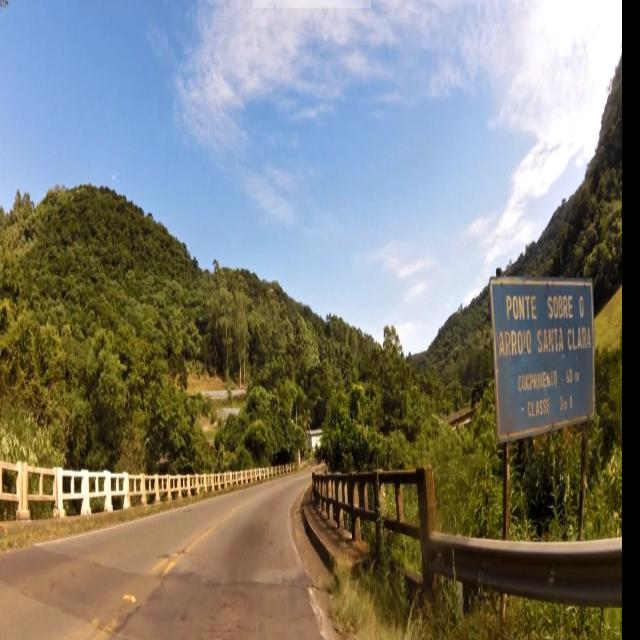LOC-6: (490, 275, 599, 428)
